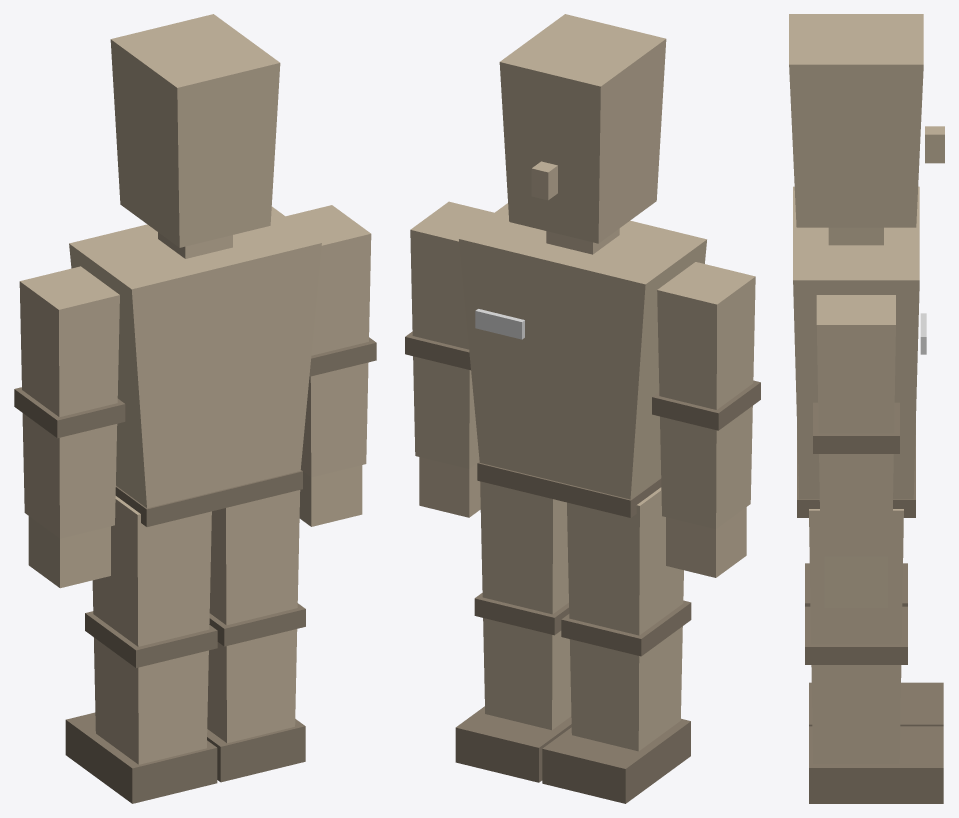
File: dummy.glb
3 views of the same model, side by side, from view 1: azimuth 30°, elevation 25°; view 2: azimuth 150°, elevation 25°; view 3: azimuth 270°, elevation 25° (orthographic). The views are drawn at different scales.
Visible parts, largest first — view 1: Torso, LegL, Head, ArmL, LegR, ArmR, NeckMesh; view 2: Torso, LegL, Head, ArmL, LegR, ArmR, NeckMesh; view 3: Head, LegR, ArmR, Torso, LegL, NeckMesh.
Part boxes in pixels (box(x1,y1,x2,y2)): Torso: box(69, 206, 321, 526); LegL: box(65, 496, 217, 803); Head: box(110, 14, 280, 247); ArmL: box(14, 266, 125, 588); LegR: box(207, 490, 305, 782); ArmR: box(286, 205, 376, 526); NeckMesh: box(158, 232, 232, 258); Torso: box(459, 203, 706, 517); LegL: box(542, 487, 691, 803); Head: box(499, 14, 666, 243); ArmL: box(652, 262, 760, 577); LegR: box(455, 481, 571, 782); ArmR: box(405, 201, 493, 517); NeckMesh: box(546, 228, 619, 254); Head: box(789, 14, 944, 227); LegR: box(805, 509, 943, 803); ArmR: box(813, 295, 899, 607); Torso: box(793, 186, 926, 517); LegL: box(805, 563, 943, 726); NeckMesh: box(828, 227, 883, 245).
Bounding box in the file's own units: 0.94 × 2.01 × 0.3936.
